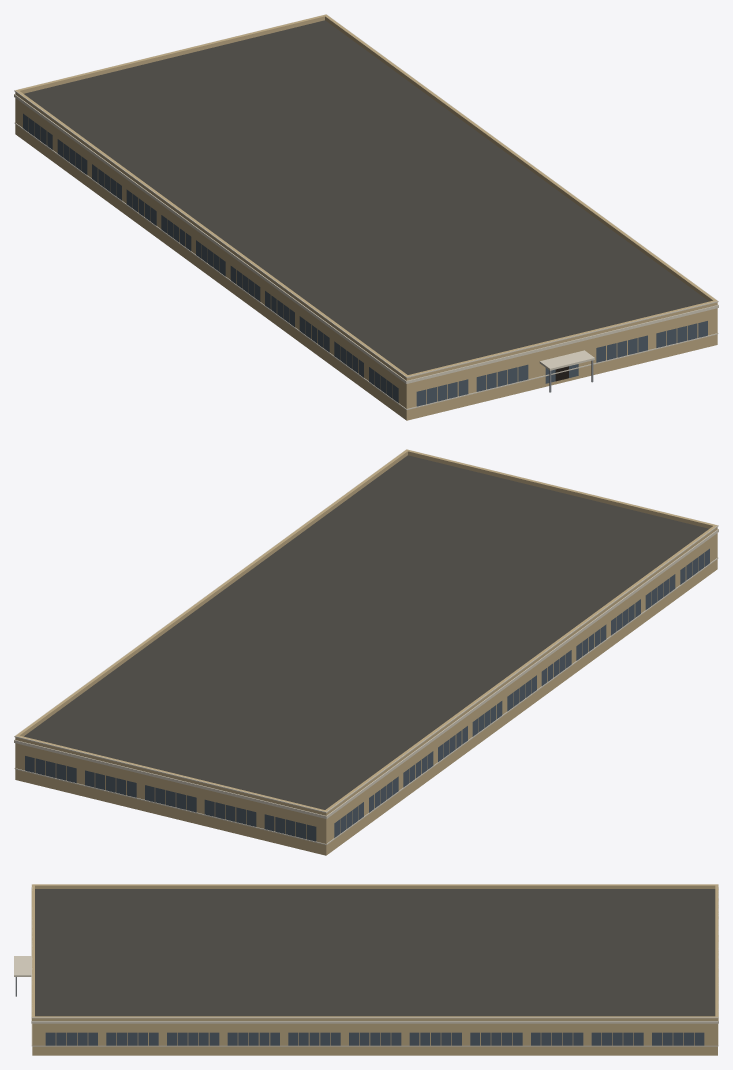
The model's file is pine-forest-elementary.glb.
The picture shows the model from 3 angles, top to bottom: view 1: azimuth 30°, elevation 25°; view 2: azimuth 150°, elevation 25°; view 3: azimuth 270°, elevation 25°; orthographic projection. The views are drawn at different scales.
Parts seen in each view (by area): view 1: pine_forest_elementary; view 2: pine_forest_elementary; view 3: pine_forest_elementary.
Part boxes in pixels (left/top/right/bottom): pine_forest_elementary: left=14, top=14, right=718, bottom=420; pine_forest_elementary: left=14, top=449, right=718, bottom=855; pine_forest_elementary: left=14, top=884, right=718, bottom=1055.
Size of the model in its own units: 41.74 by 5.6 by 93.02.
